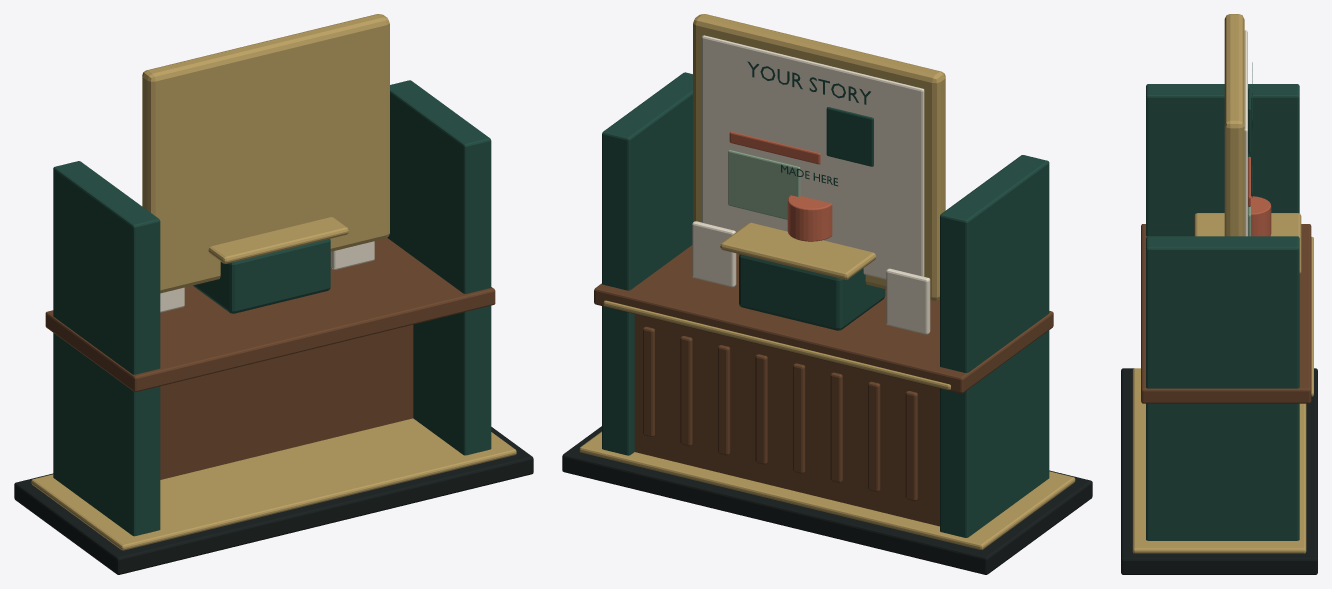
File: mall-event-booth.glb
The picture shows the model from 3 angles, left to right: view 1: azimuth 30°, elevation 25°; view 2: azimuth 150°, elevation 25°; view 3: azimuth 270°, elevation 25°; orthographic projection. The views are drawn at different scales.
Visible parts, largest first — view 1: BoothStructure Geometry, PosterPanel Geometry, DisplayContent Geometry; view 2: BoothStructure Geometry, PosterPanel Geometry, DisplayContent Geometry; view 3: BoothStructure Geometry, PosterPanel Geometry, DisplayContent Geometry.
Part boxes in pixels (x1,y1,x2,y2): BoothStructure Geometry: (14,80,533,574); PosterPanel Geometry: (142,14,389,293); DisplayContent Geometry: (160,217,374,313); BoothStructure Geometry: (562,72,1092,574); PosterPanel Geometry: (693,14,945,300); DisplayContent Geometry: (692,195,930,334); BoothStructure Geometry: (1121,84,1317,574); PosterPanel Geometry: (1224,14,1252,236); DisplayContent Geometry: (1194,196,1301,274).
Bounding box in the file's own units: 2.72 × 2.73 × 1.18.
